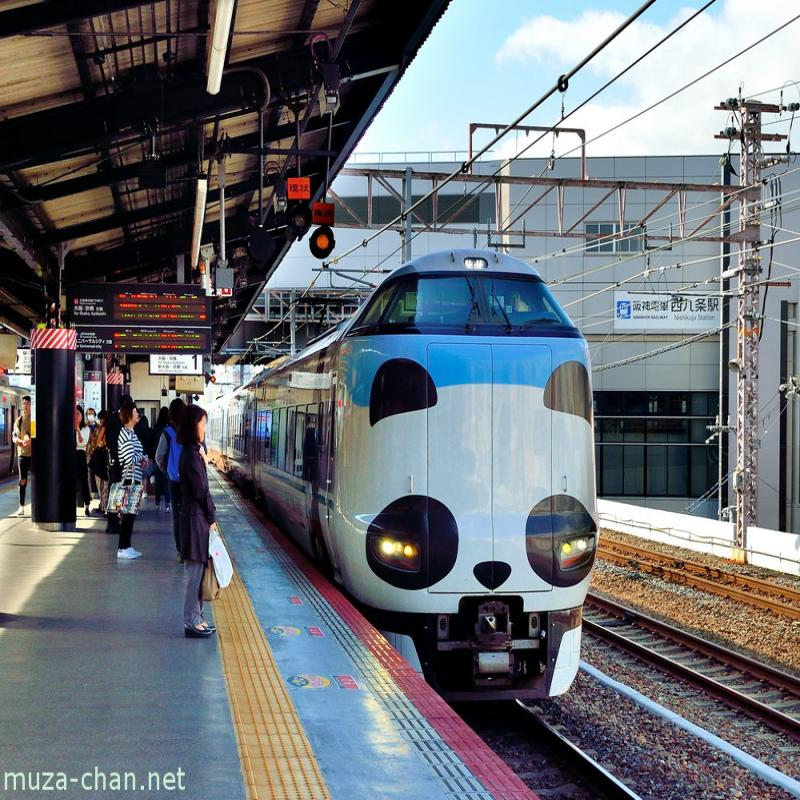train: (304, 245, 614, 698)
